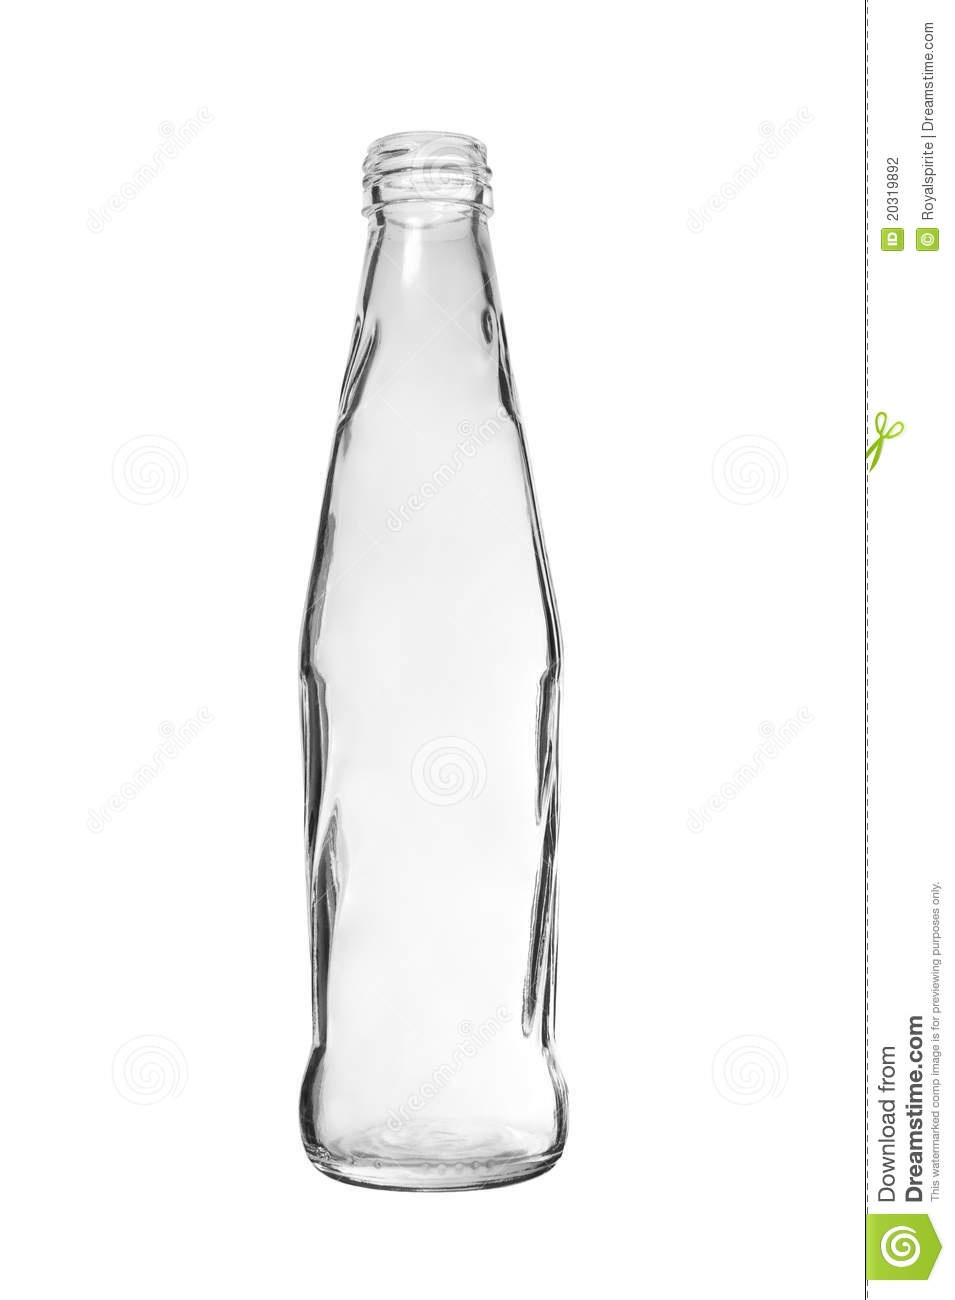emptybottle: (300, 130, 568, 1188)
